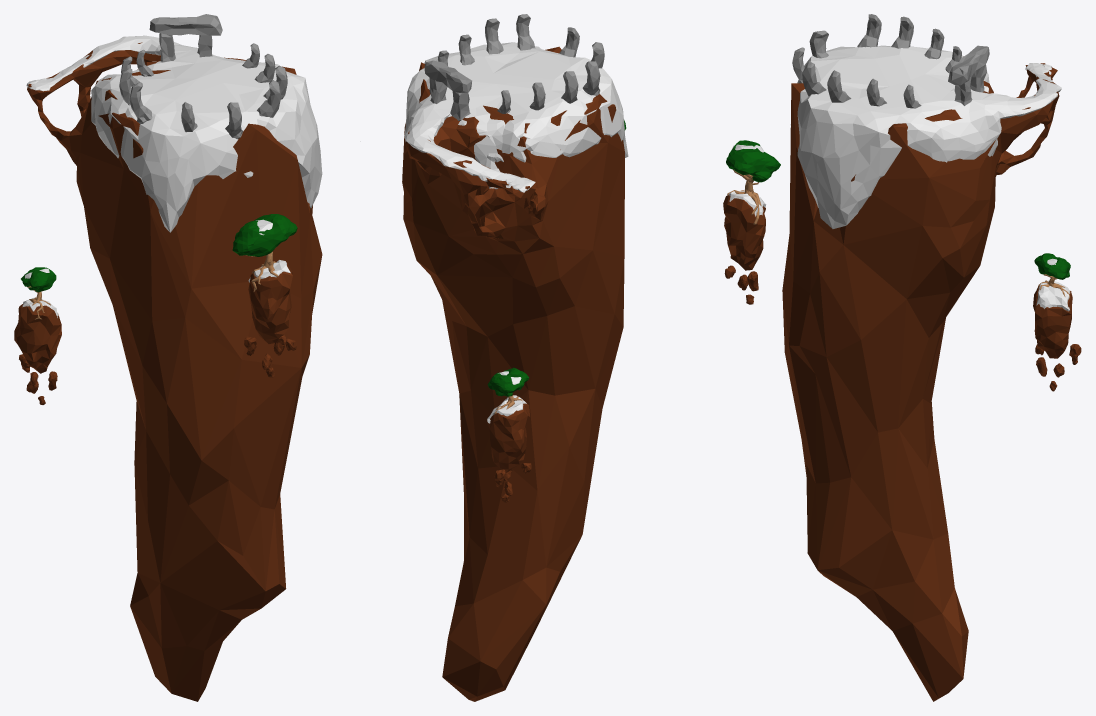
The model's file is Tre_Isola7.fbx.
3 renders of one model, left to right at view 1: azimuth 30°, elevation 25°; view 2: azimuth 150°, elevation 25°; view 3: azimuth 270°, elevation 25°, orthographic. The views are drawn at different scales.
Visible parts, largest first — view 1: Plane.007, Plane.018, Sphere.125, Sphere.098, Mball.003, Sphere.134, Mball.002; view 2: Plane.007, Plane.018, Sphere.098, Sphere.134, Mball.002, Sphere.142, Sphere.141, Sphere.138, Sphere.133; view 3: Plane.007, Plane.018, Sphere.125, Sphere.098, Mball.003, Sphere.134, Sphere.099, Mball.002.
Part boxes in pixels (x1=…): Plane.007: x1=27, y1=42, x2=322, y2=701; Plane.018: x1=26, y1=35, x2=322, y2=232; Sphere.125: x1=248, y1=263, x2=292, y2=343; Sphere.098: x1=14, y1=304, x2=61, y2=373; Mball.003: x1=232, y1=214, x2=297, y2=256; Sphere.134: x1=149, y1=14, x2=222, y2=35; Mball.002: x1=21, y1=267, x2=56, y2=292; Plane.007: x1=402, y1=46, x2=624, y2=701; Plane.018: x1=404, y1=42, x2=628, y2=192; Sphere.098: x1=487, y1=403, x2=529, y2=472; Sphere.134: x1=424, y1=60, x2=471, y2=92; Mball.002: x1=487, y1=367, x2=528, y2=396; Sphere.142: x1=516, y1=14, x2=535, y2=50; Sphere.141: x1=485, y1=18, x2=503, y2=54; Sphere.138: x1=582, y1=61, x2=600, y2=95; Sphere.133: x1=450, y1=91, x2=470, y2=120; Plane.007: x1=782, y1=63, x2=1059, y2=701; Plane.018: x1=790, y1=45, x2=1061, y2=228; Sphere.125: x1=723, y1=195, x2=765, y2=270; Sphere.098: x1=1033, y1=285, x2=1072, y2=358; Mball.003: x1=726, y1=140, x2=780, y2=182; Sphere.134: x1=948, y1=45, x2=989, y2=85; Sphere.099: x1=1036, y1=280, x2=1070, y2=311; Mball.002: x1=1034, y1=253, x2=1070, y2=279.
Size of the model in its own units: 372 by 853 by 438.
